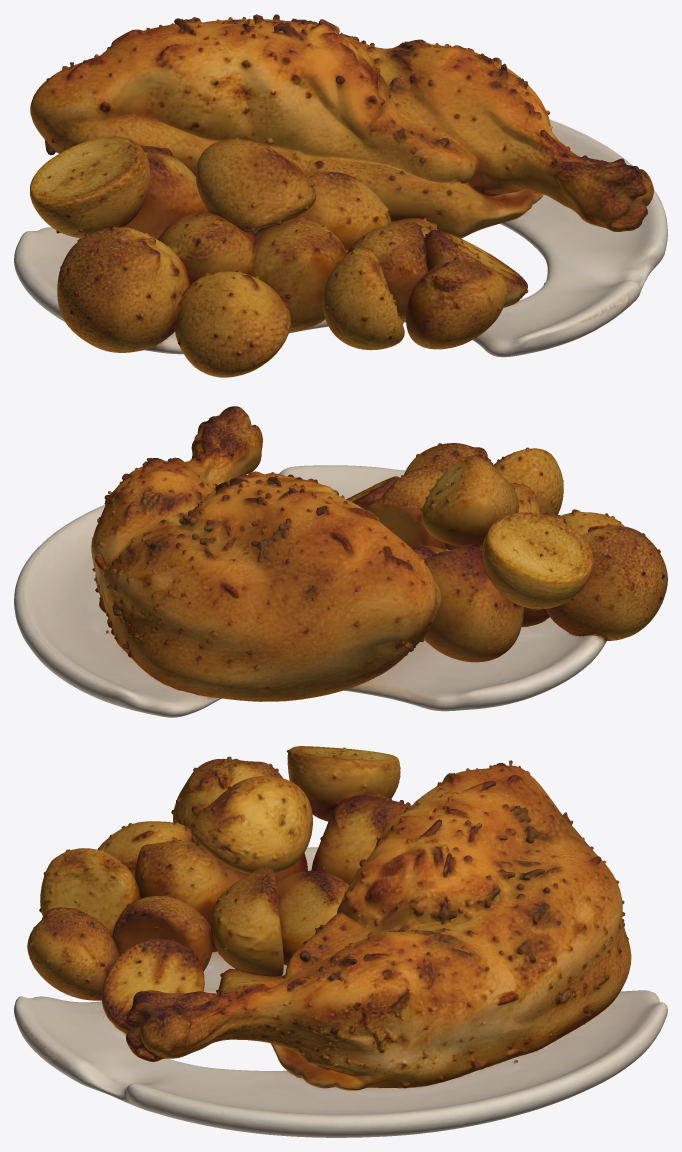
3 views of the same model, one above another, from view 1: azimuth 30°, elevation 25°; view 2: azimuth 150°, elevation 25°; view 3: azimuth 270°, elevation 25° (orthographic). The views are drawn at different scales.
Parts seen in each view (by area): view 1: tripo_node_a9421830-eae5-4891-81a5-c8b8a6f17bb6; view 2: tripo_node_a9421830-eae5-4891-81a5-c8b8a6f17bb6; view 3: tripo_node_a9421830-eae5-4891-81a5-c8b8a6f17bb6.
Boxes of the visible parts, x1=… form: tripo_node_a9421830-eae5-4891-81a5-c8b8a6f17bb6: x1=14, y1=14, x2=667, y2=377; tripo_node_a9421830-eae5-4891-81a5-c8b8a6f17bb6: x1=14, y1=406, x2=667, y2=717; tripo_node_a9421830-eae5-4891-81a5-c8b8a6f17bb6: x1=14, y1=746, x2=667, y2=1137.
Size of the model in its own units: 0.9804 by 0.3007 by 0.9281.
1 material, 1 textured.
